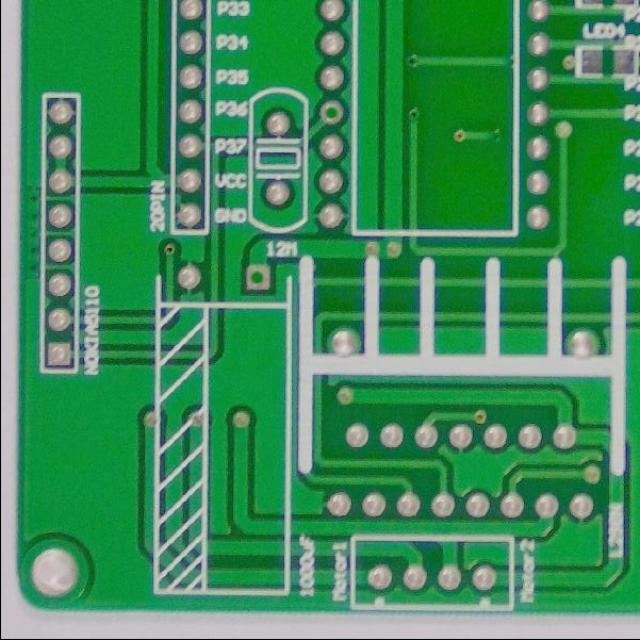missing_hole: (313, 97, 347, 129), (243, 264, 269, 295)
